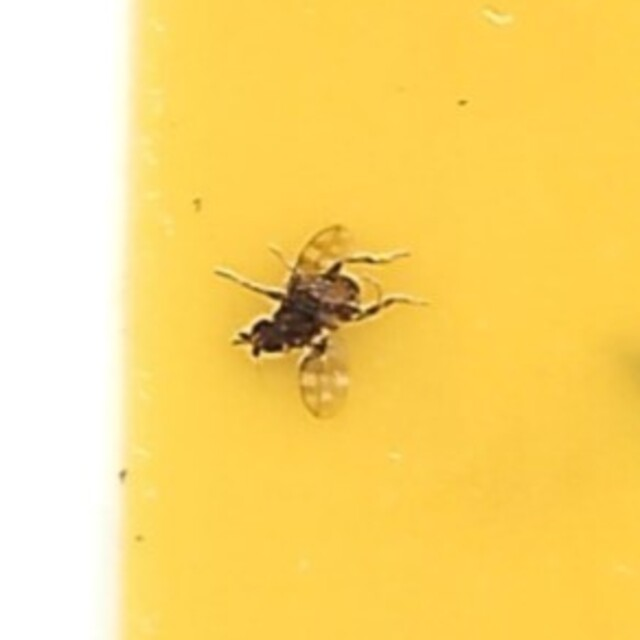Brachycera: (219, 219, 421, 421)
